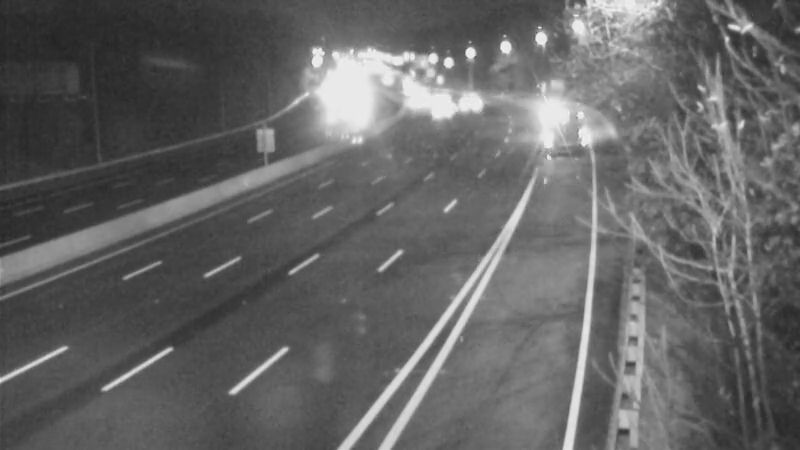vehicle: (391, 75, 441, 125), (444, 79, 494, 129), (418, 86, 468, 136), (532, 95, 582, 145)
